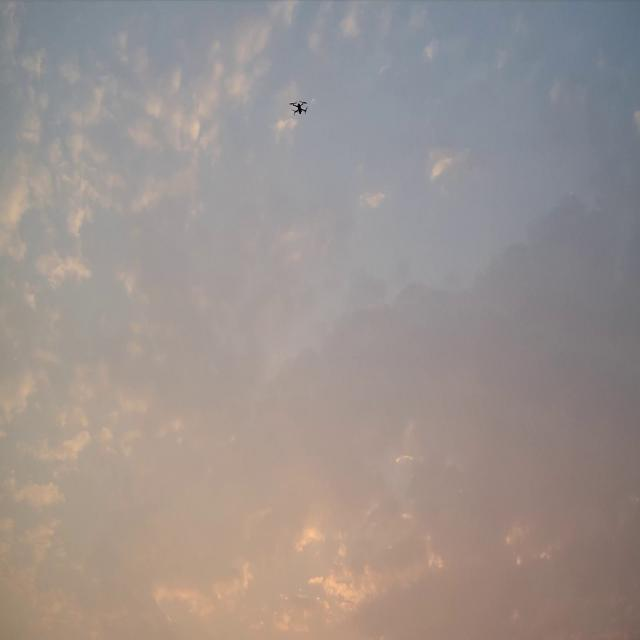UAV: (289, 100, 308, 115)
